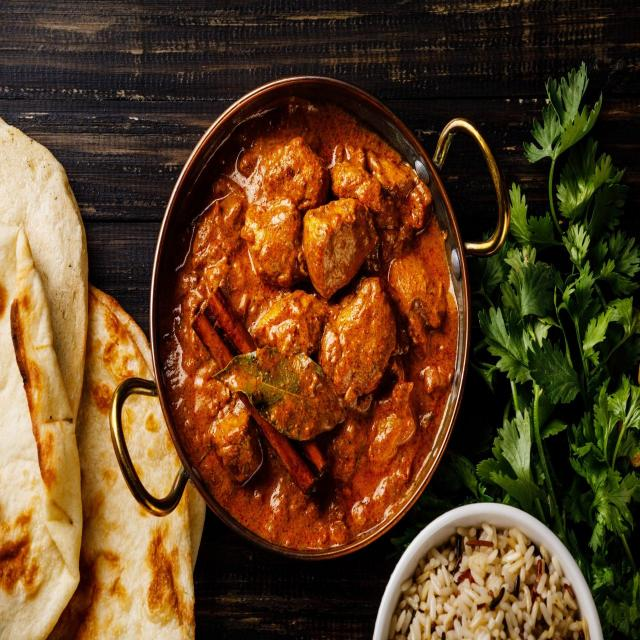chicken: (161, 111, 446, 536)
rice: (383, 532, 601, 638)
roti: (0, 131, 195, 630)
